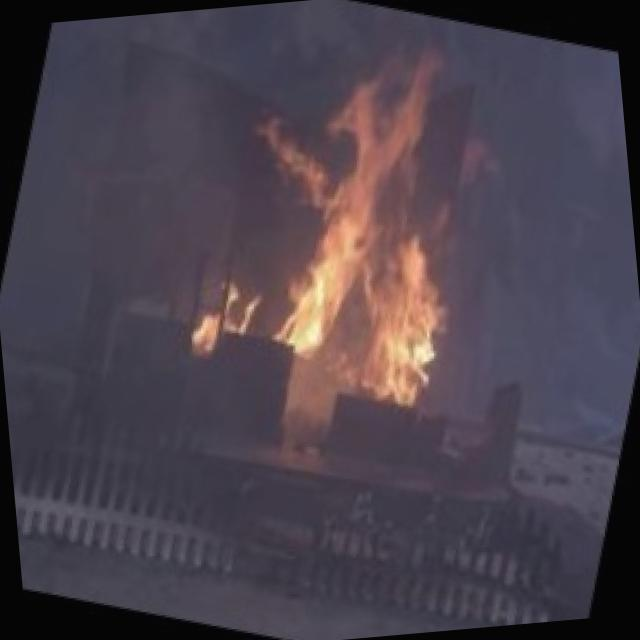fire: (128, 0, 567, 461)
